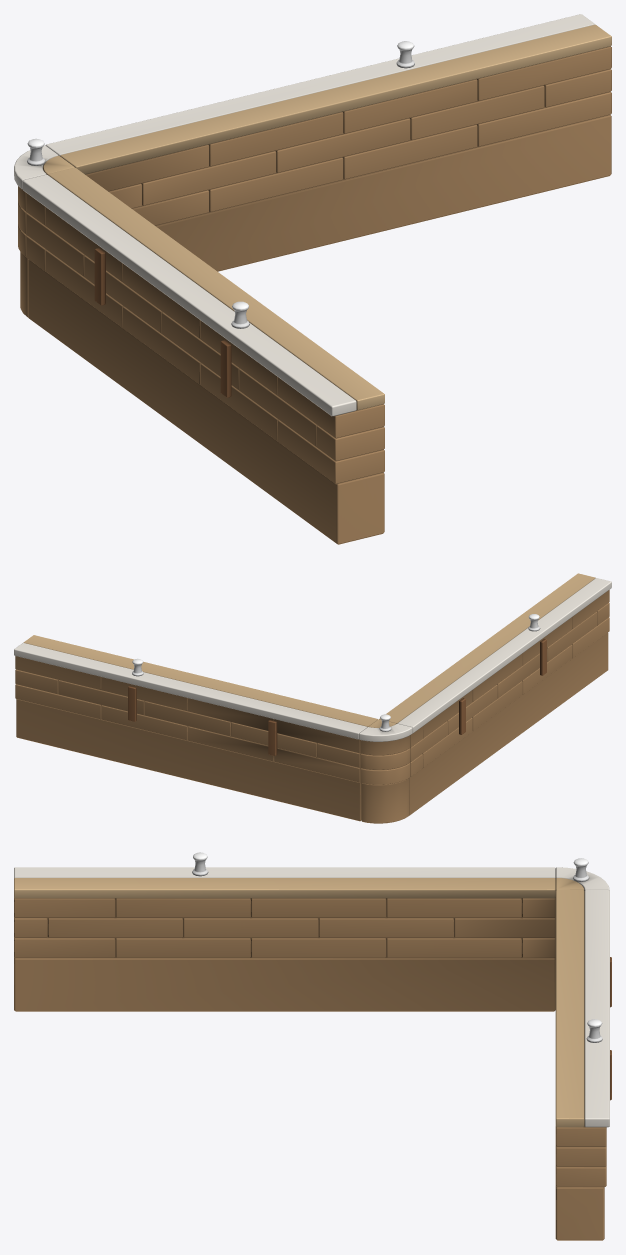
Rendered from quay_corner_outer.fbx.
3 views of the same model, one above another, from view 1: azimuth 30°, elevation 25°; view 2: azimuth 150°, elevation 25°; view 3: azimuth 270°, elevation 25° (orthographic). The views are drawn at different scales.
Parts seen in each view (by area): view 1: quay_corner_outer; view 2: quay_corner_outer; view 3: quay_corner_outer.
Part boxes in pixels (x1,y1,x2,y2): quay_corner_outer: (14, 14, 611, 544); quay_corner_outer: (14, 573, 611, 823); quay_corner_outer: (14, 852, 611, 1240).
Size of the model in its own units: 17.66 by 4.62 by 17.66.
